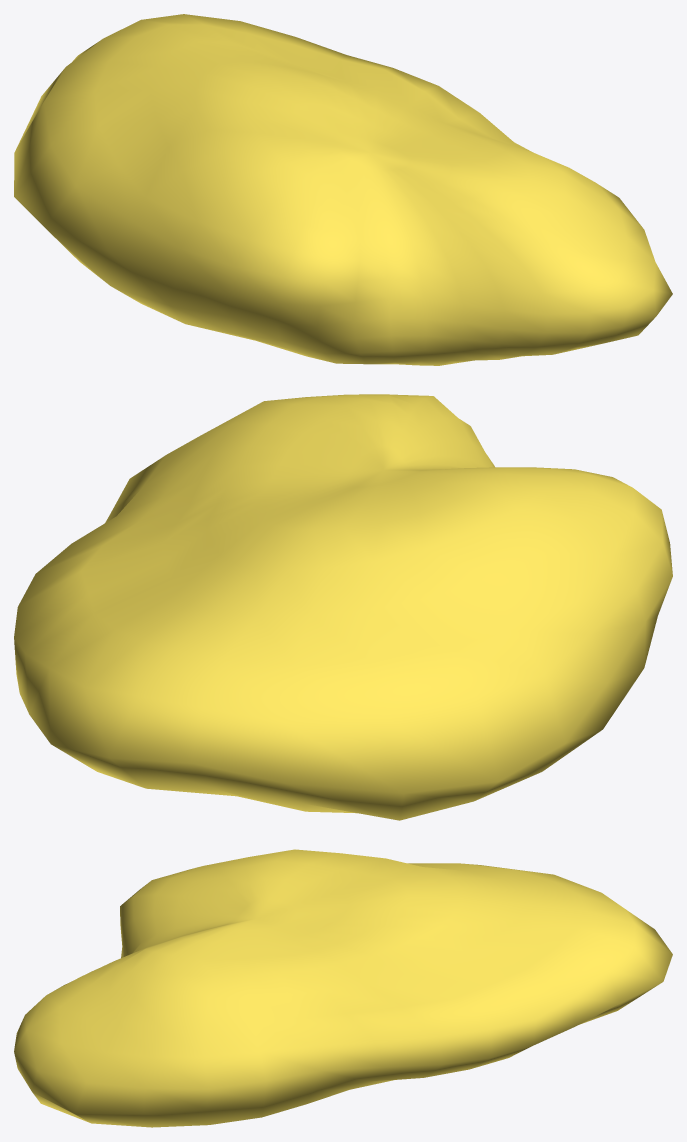
Rendered from Nugget3.fbx.
3 renders of one model, top to bottom at view 1: azimuth 30°, elevation 25°; view 2: azimuth 150°, elevation 25°; view 3: azimuth 270°, elevation 25°, orthographic. The views are drawn at different scales.
Visible parts, largest first — view 1: ChickenNugget_Raw.002; view 2: ChickenNugget_Raw.002; view 3: ChickenNugget_Raw.002.
Part boxes in pixels (x1,y1,x2,y2): ChickenNugget_Raw.002: [14, 14, 672, 365]; ChickenNugget_Raw.002: [14, 394, 672, 820]; ChickenNugget_Raw.002: [14, 849, 672, 1127].
Bounding box in the file's own units: 10.83 × 4.16 × 15.01.
